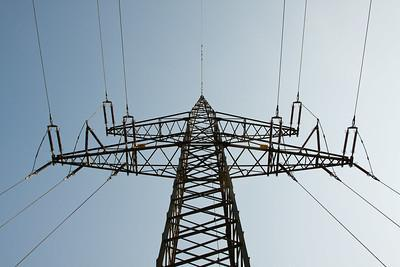power_tower: (35, 89, 364, 267)
